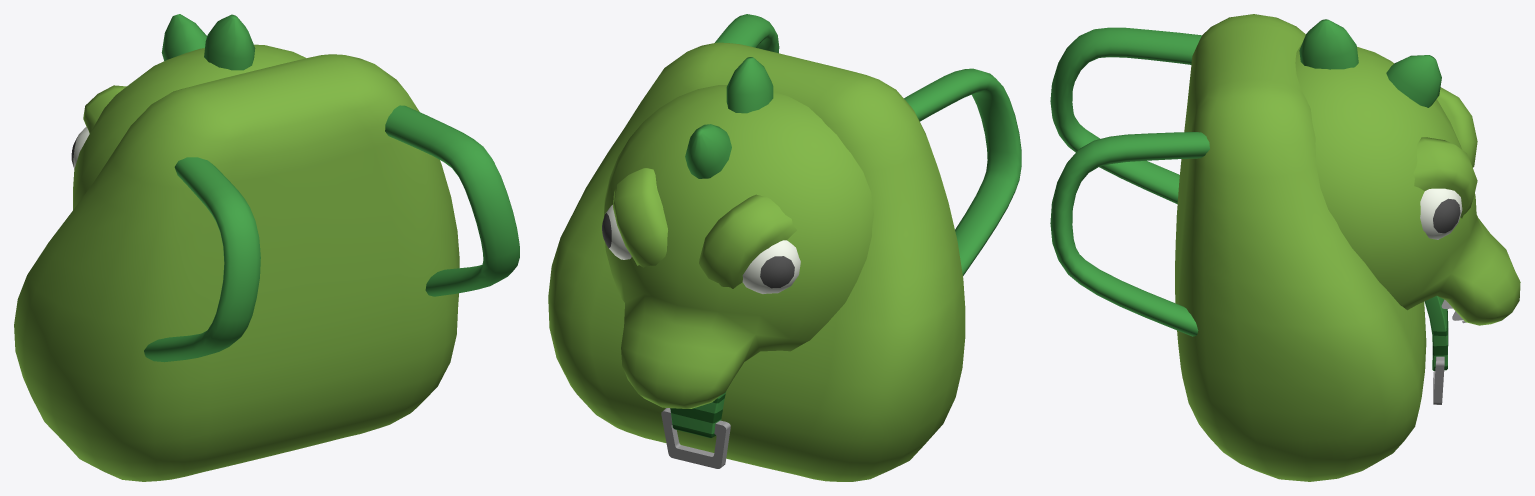
The model's file is Crocodile_balo.fbx.
3 views of the same model, side by side, from view 1: azimuth 30°, elevation 25°; view 2: azimuth 150°, elevation 25°; view 3: azimuth 270°, elevation 25° (orthographic). The views are drawn at different scales.
Parts seen in each view (by area): view 1: Crocodile_balo; view 2: Crocodile_balo; view 3: Crocodile_balo.
Boxes of the visible parts, <box> form: Crocodile_balo: <box>14,14,519,481</box>; Crocodile_balo: <box>548,14,1021,481</box>; Crocodile_balo: <box>1050,14,1520,481</box>.
Bounding box in the file's own units: 121 × 123 × 128.
